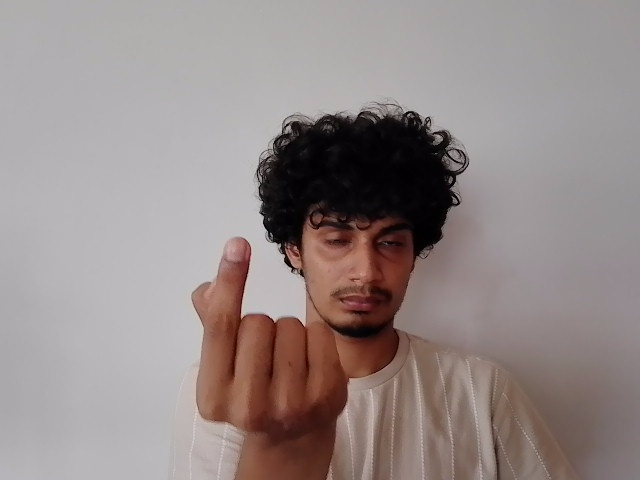just: (191, 235, 353, 427)
